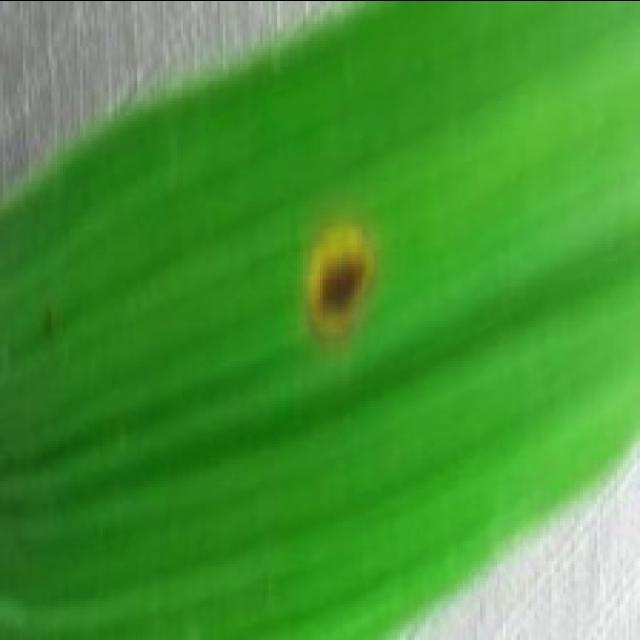Unhealthy: (302, 214, 383, 353)
